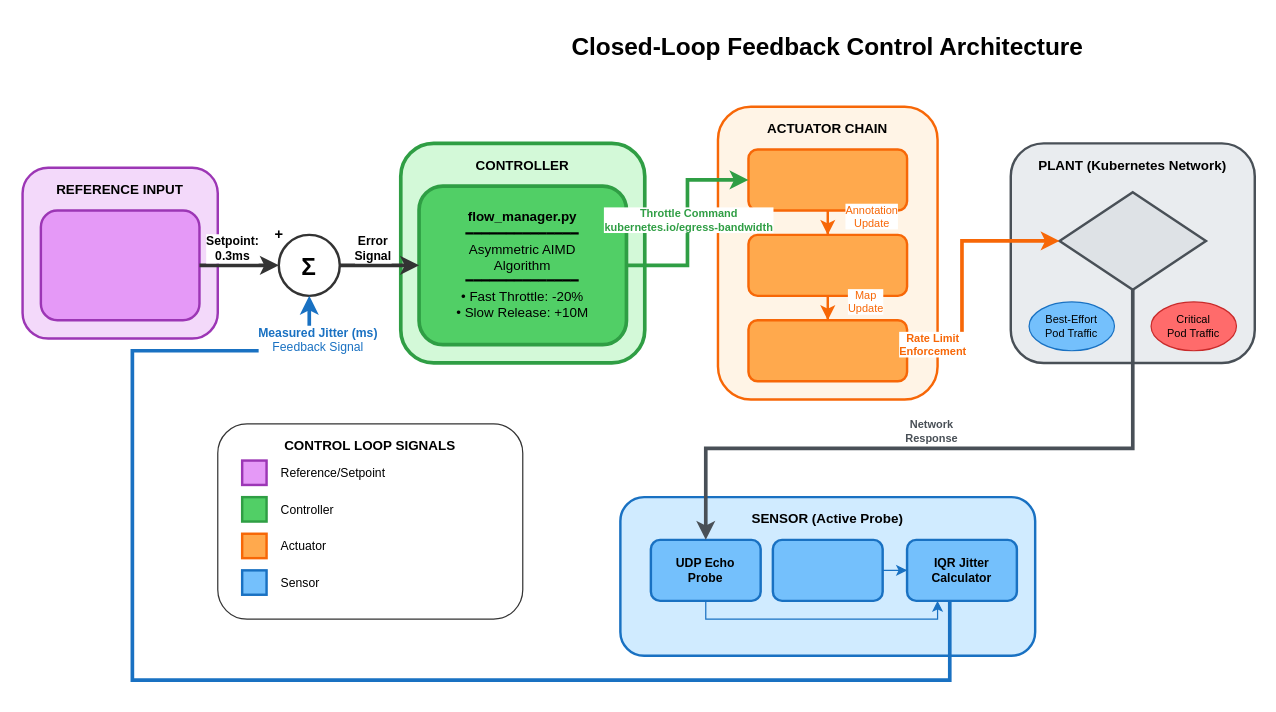
Image size: 1276x712. Some labels were removed from this diagram. Here are the shapes that lost their labels. From the top down, the centre of each, then its label:
At point (827, 179): "Kubernetes API Server".
At point (1132, 240): "Shared Network Link".
At point (119, 265): "Target SLA ━━━━━━━━━━ Jitter < 0.3ms Latency < 10ms".
At point (827, 264): "Cilium Agent".
At point (827, 350): "eBPF Bandwidth Manager".
At point (827, 569): "TCP Connect Probe".
